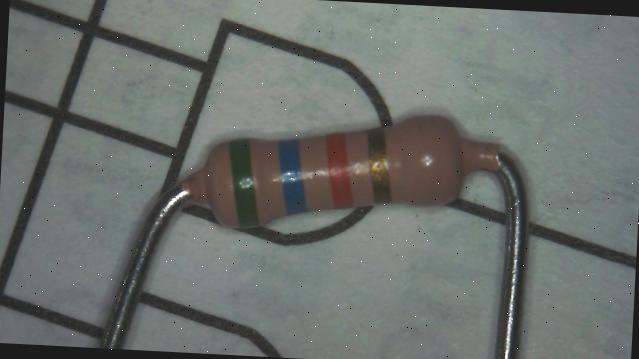blue: (276, 138, 308, 214)
gold: (363, 126, 393, 204)
green: (225, 139, 262, 229)
orange: (324, 131, 352, 207)
resistor: (191, 99, 477, 247)
